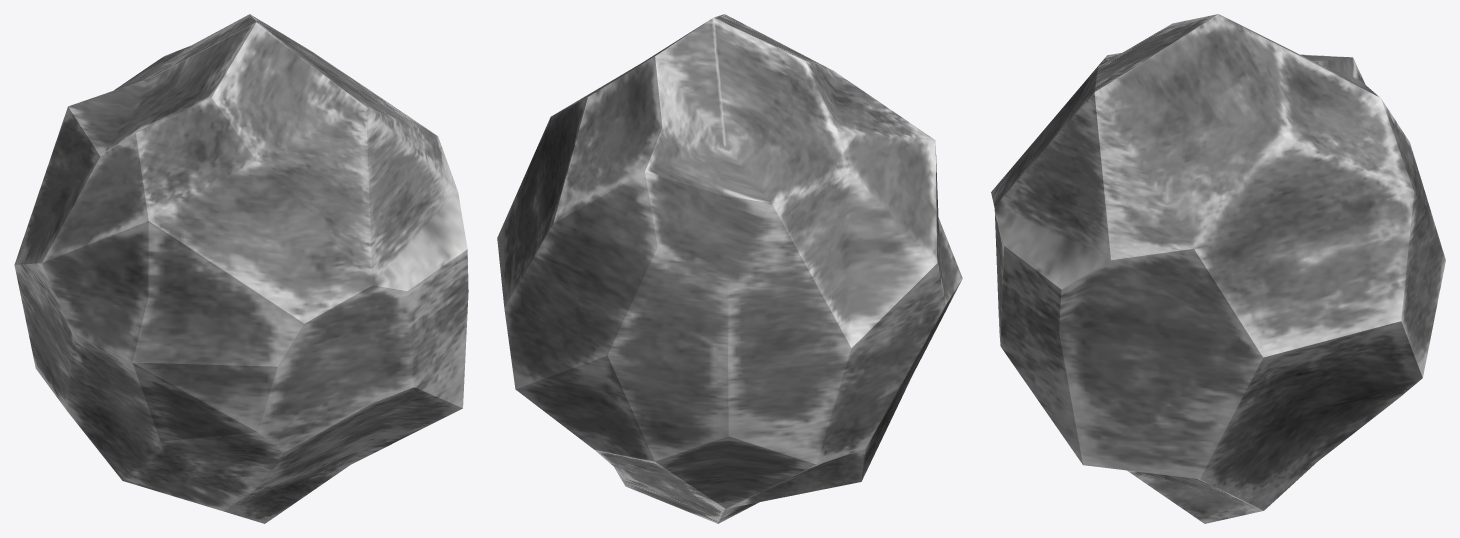
Rendered from eff_Rock01.fbx.
The picture shows the model from 3 angles, left to right: view 1: azimuth 30°, elevation 25°; view 2: azimuth 150°, elevation 25°; view 3: azimuth 270°, elevation 25°; orthographic projection. The views are drawn at different scales.
Visible parts, largest first — view 1: eff_Rock01_msh; view 2: eff_Rock01_msh; view 3: eff_Rock01_msh.
Boxes of the visible parts, box(x1,y1,x2,y2) form: eff_Rock01_msh: box(14, 14, 468, 523); eff_Rock01_msh: box(497, 14, 962, 523); eff_Rock01_msh: box(991, 14, 1445, 523).
Size of the model in its own units: 1.6 by 1.88 by 1.53.
